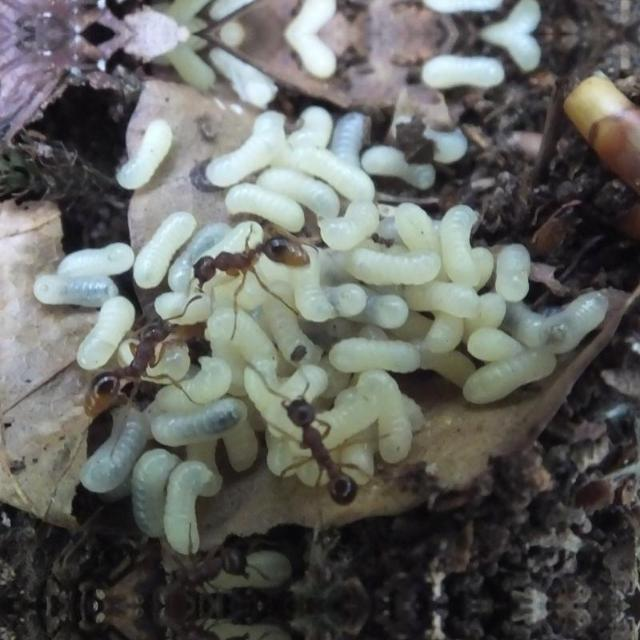Myrmica: (253, 380, 399, 522), (170, 211, 328, 321), (78, 310, 172, 420)
